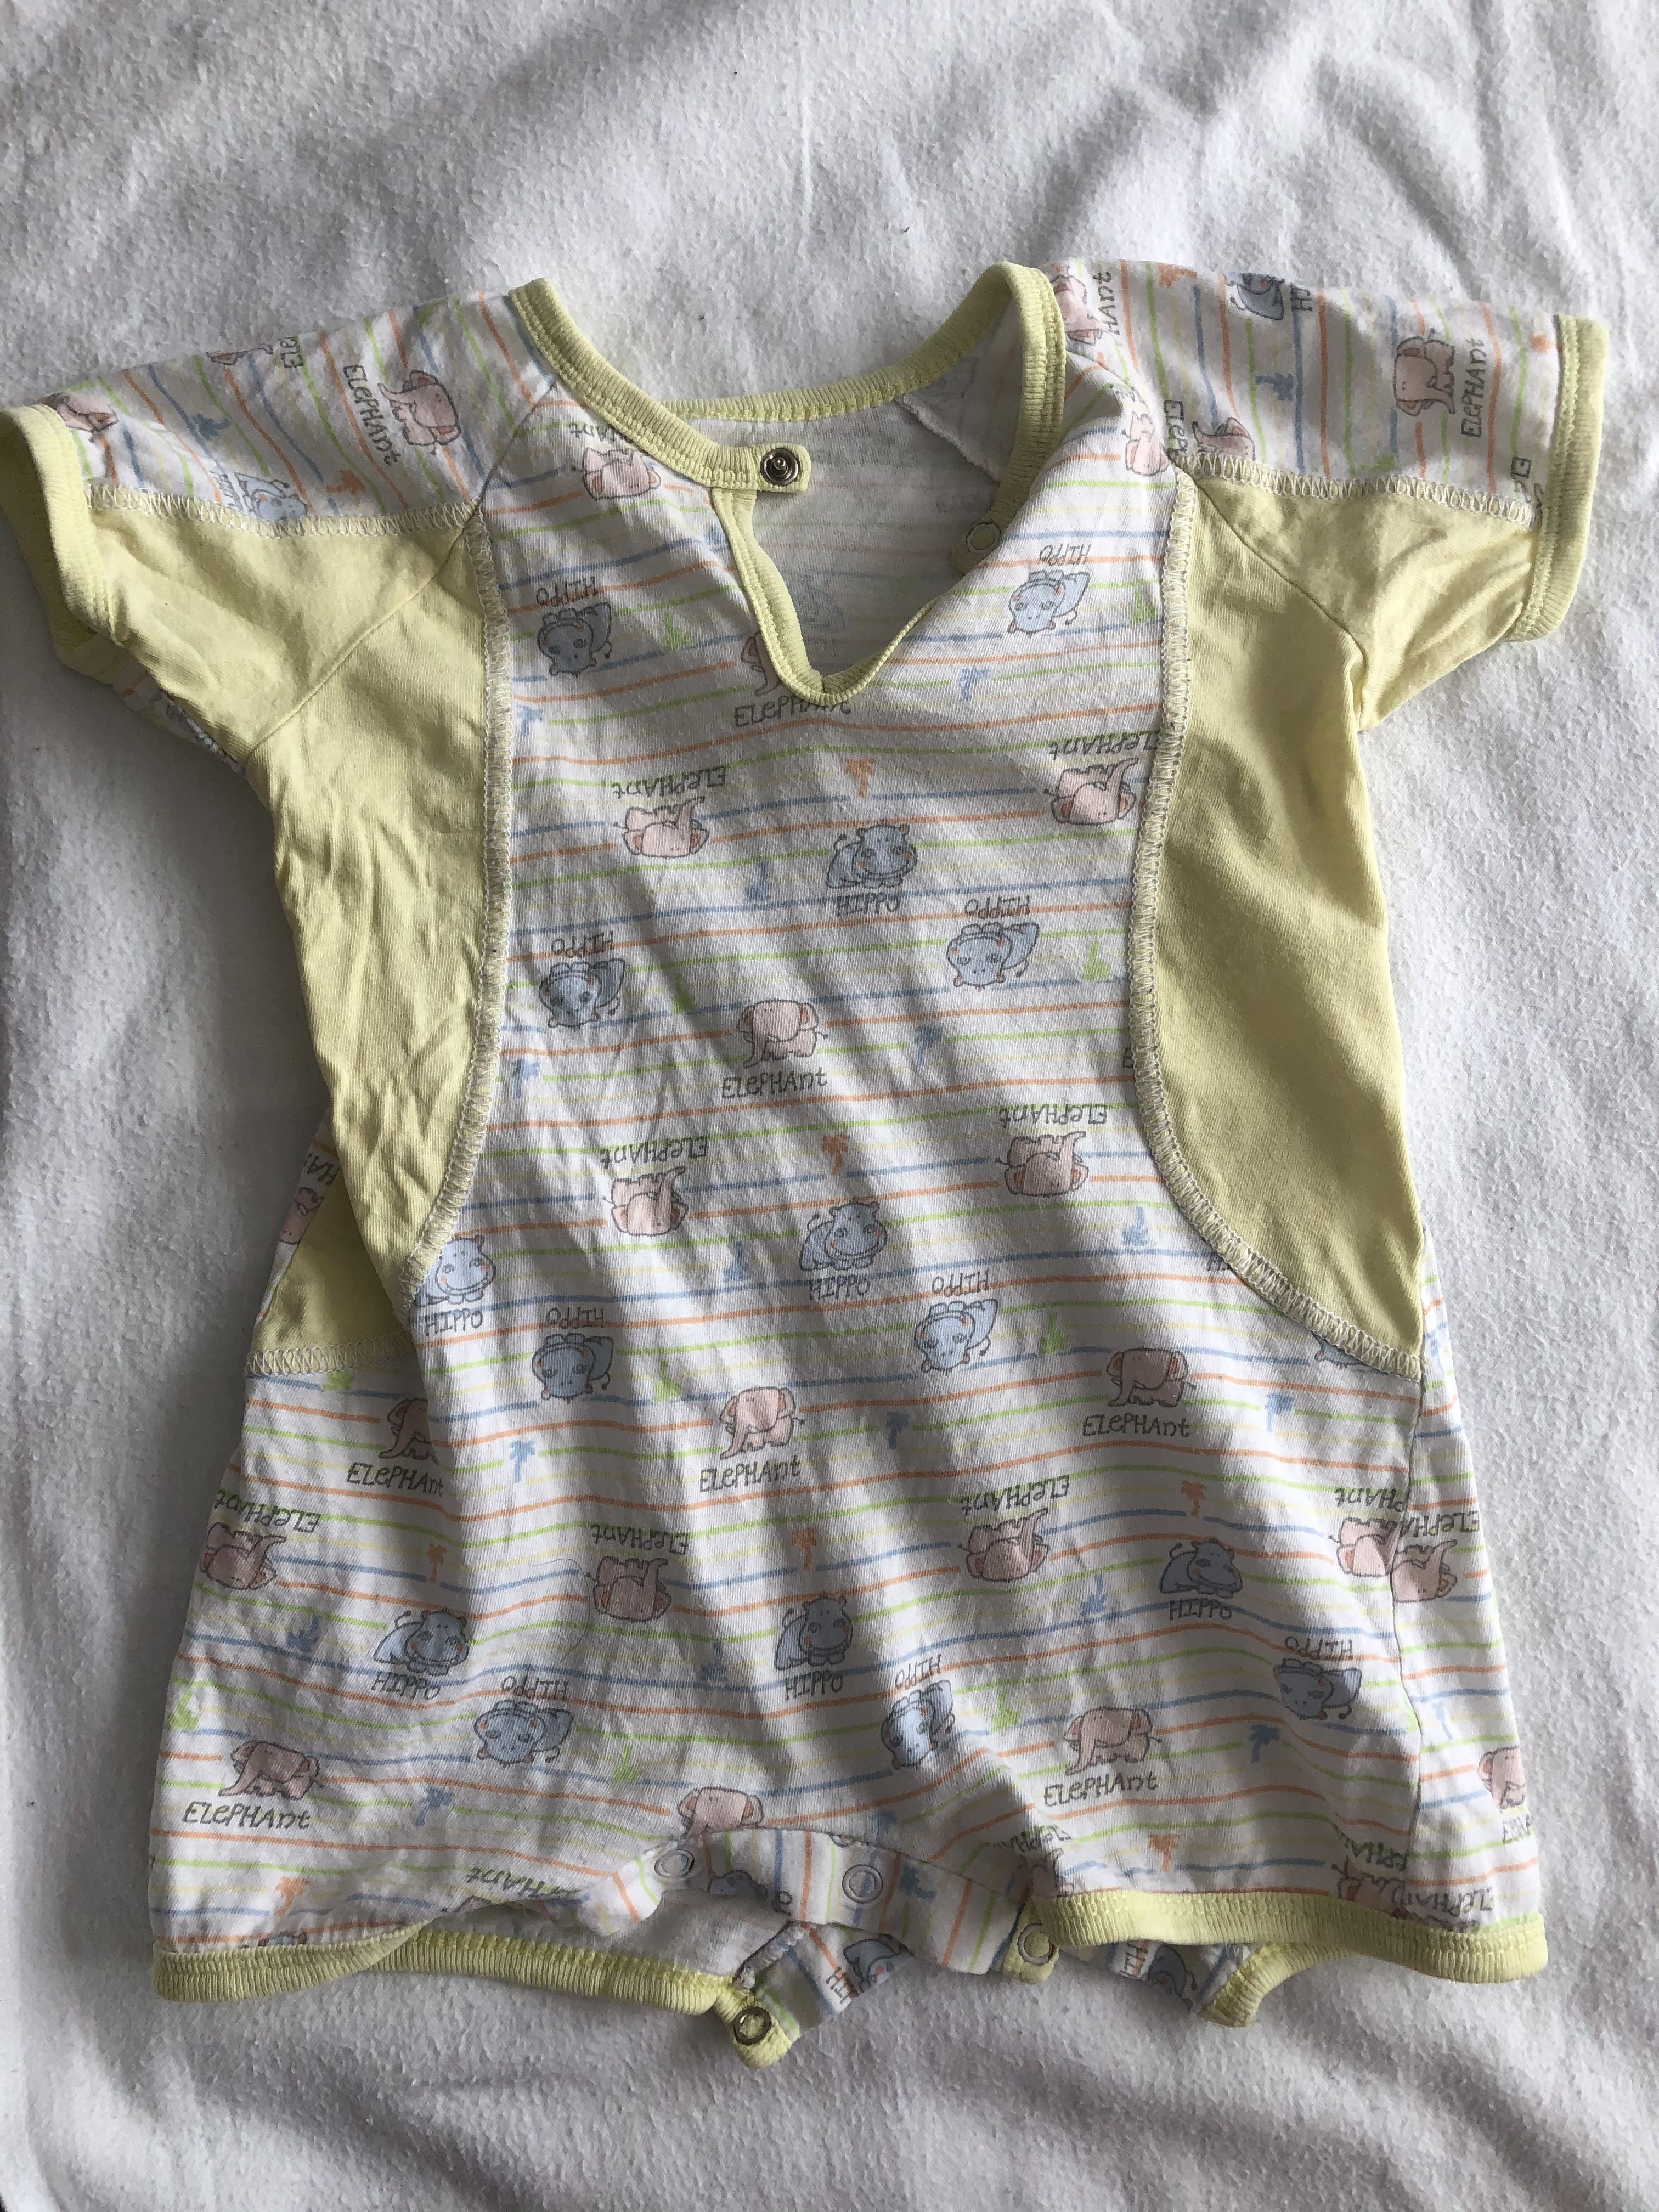clothes: (3, 230, 1629, 2024)
